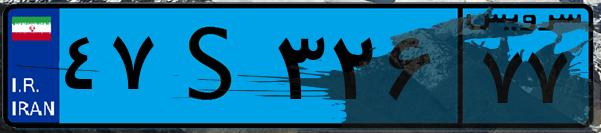2: (330, 28, 385, 110)
3: (270, 28, 330, 110)
4: (57, 26, 110, 100)
6: (385, 28, 445, 110)
7: (475, 38, 525, 113), (525, 38, 570, 115), (110, 28, 158, 98)
S: (158, 12, 270, 120)
